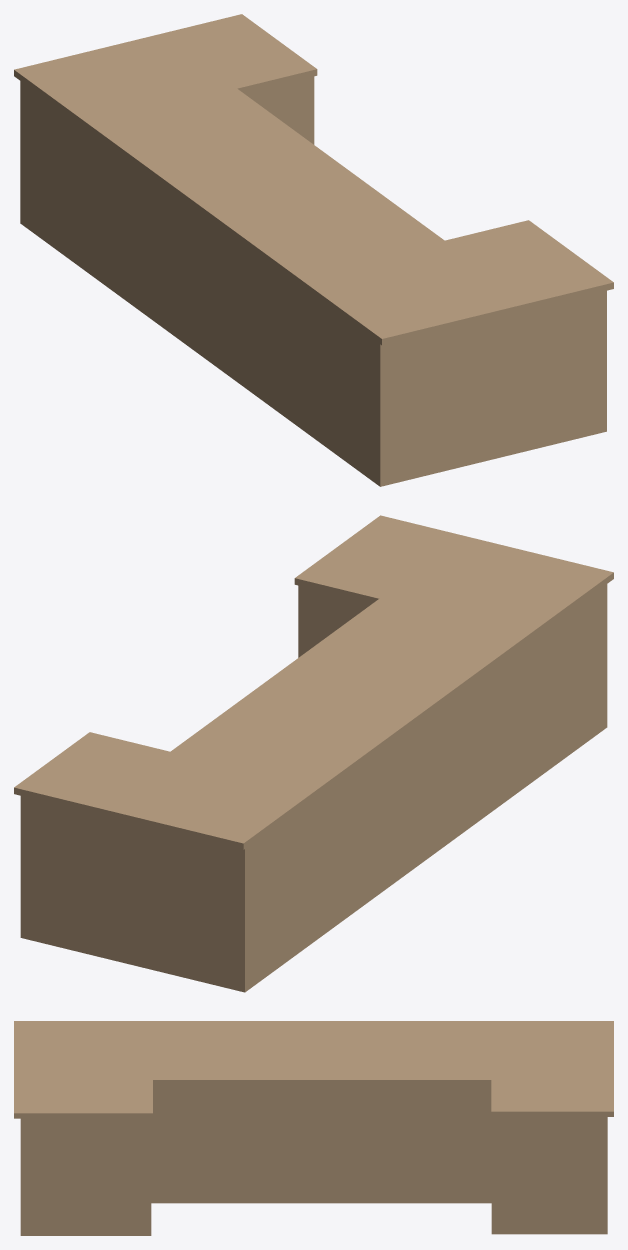
The model's file is counter.glb.
3 renders of one model, top to bottom at view 1: azimuth 30°, elevation 25°; view 2: azimuth 150°, elevation 25°; view 3: azimuth 270°, elevation 25°, orthographic. The views are drawn at different scales.
Visible parts, largest first — view 1: -col; view 2: -col; view 3: -col.
Boxes of the visible parts, bbox=[...] form: -col: bbox=[14, 14, 613, 486]; -col: bbox=[14, 515, 613, 992]; -col: bbox=[14, 1021, 613, 1235].
Size of the model in its own units: 3.35 by 2.09 by 9.2.
